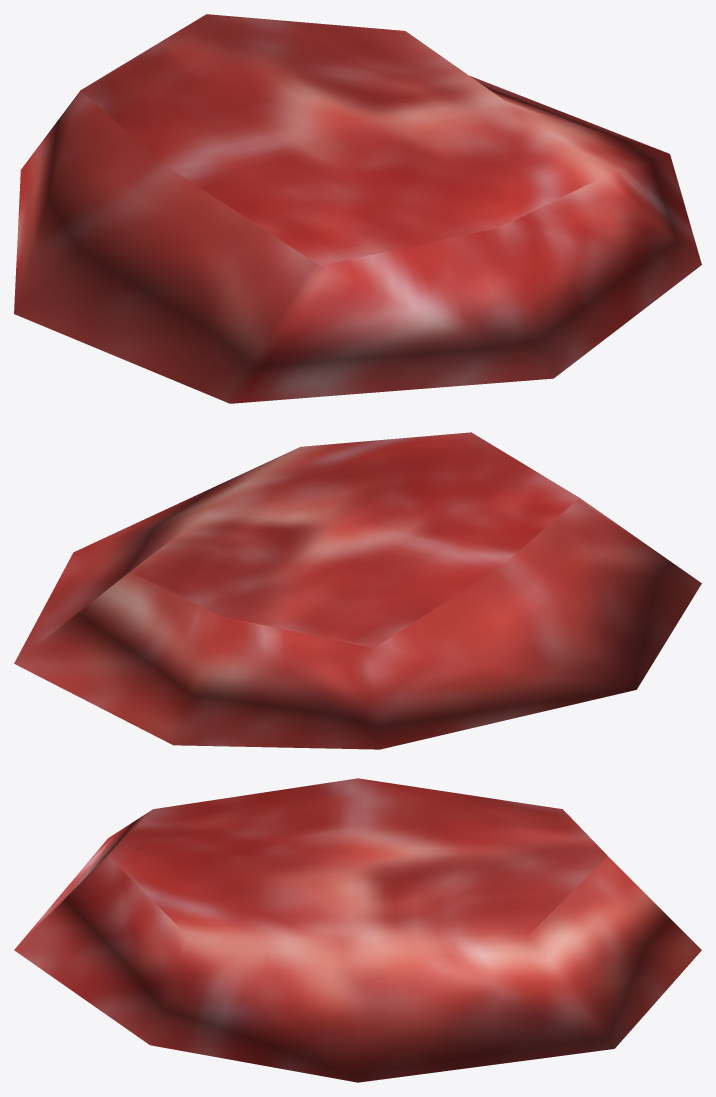
File: meatlump1.glb
3 views of the same model, one above another, from view 1: azimuth 30°, elevation 25°; view 2: azimuth 150°, elevation 25°; view 3: azimuth 270°, elevation 25° (orthographic). The views are drawn at different scales.
Parts seen in each view (by area): view 1: Cube; view 2: Cube; view 3: Cube.
Boxes of the visible parts, <box> form: Cube: <box>14,14,701,403</box>; Cube: <box>14,432,701,749</box>; Cube: <box>14,778,701,1082</box>.
Bounding box in the file's own units: 25.74 × 4.14 × 27.33.
Materials: 1 (1 with a texture image).
